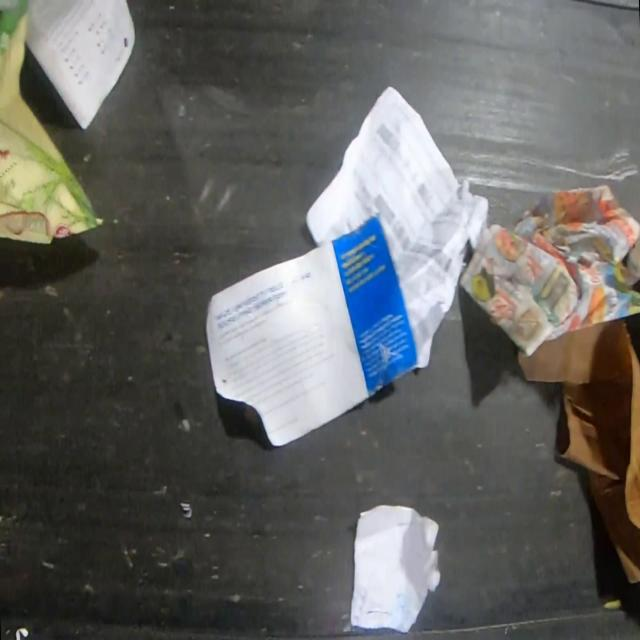cardboard: (517, 317, 640, 584)
soft_plastic: (0, 0, 106, 244)
